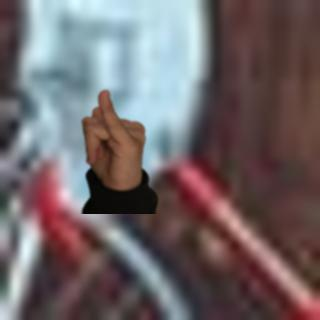HAVE: (70, 87, 157, 194)
